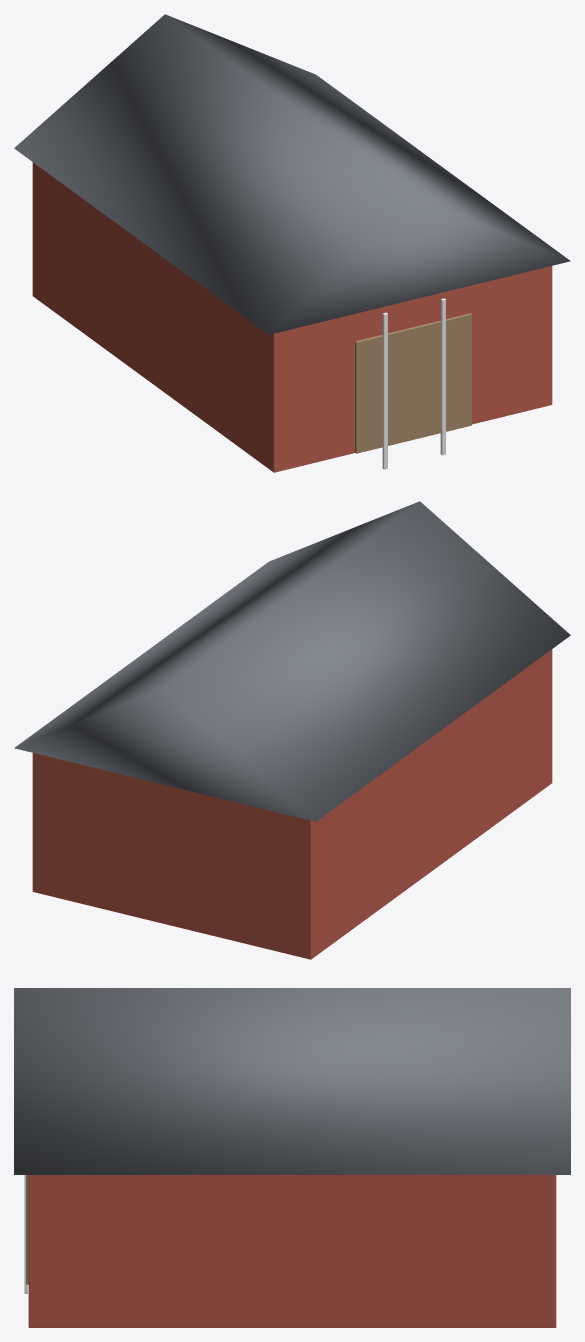
File: barn.glb
3 renders of one model, top to bottom at view 1: azimuth 30°, elevation 25°; view 2: azimuth 150°, elevation 25°; view 3: azimuth 270°, elevation 25°, orthographic. The views are drawn at different scales.
Visible parts, largest first — view 1: barn; view 2: barn; view 3: barn.
Part boxes in pixels (bbox=[...]): barn: bbox=[14, 14, 570, 472]; barn: bbox=[14, 501, 570, 959]; barn: bbox=[14, 988, 570, 1327].
Bounding box in the file's own units: 13 × 10.9 × 19.
